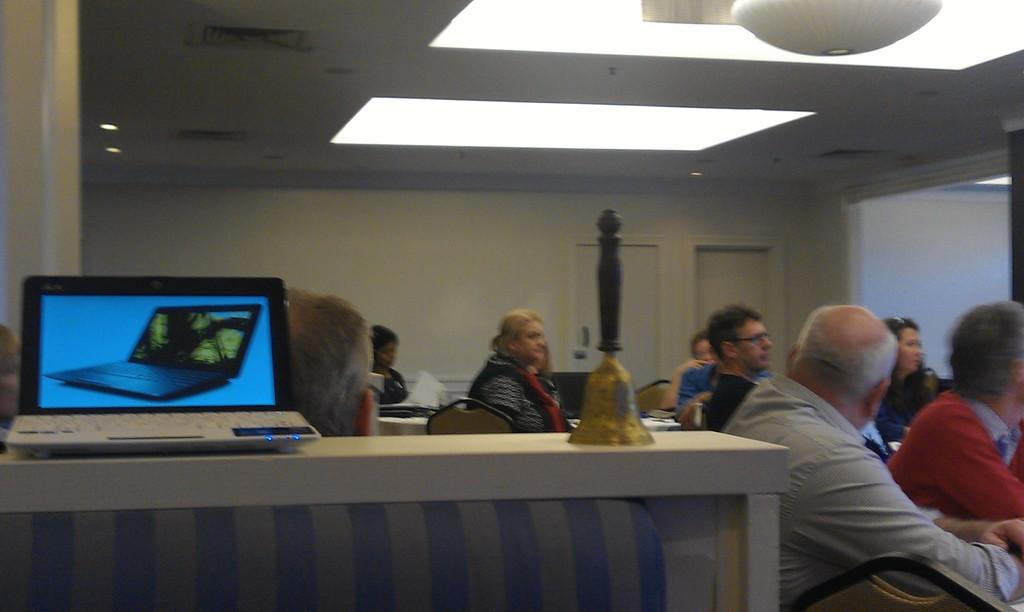Laptop: (48, 306, 264, 401)
